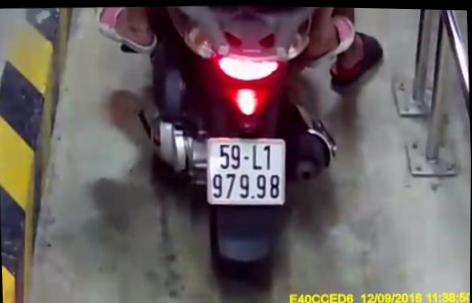LP: (204, 132, 289, 208)
